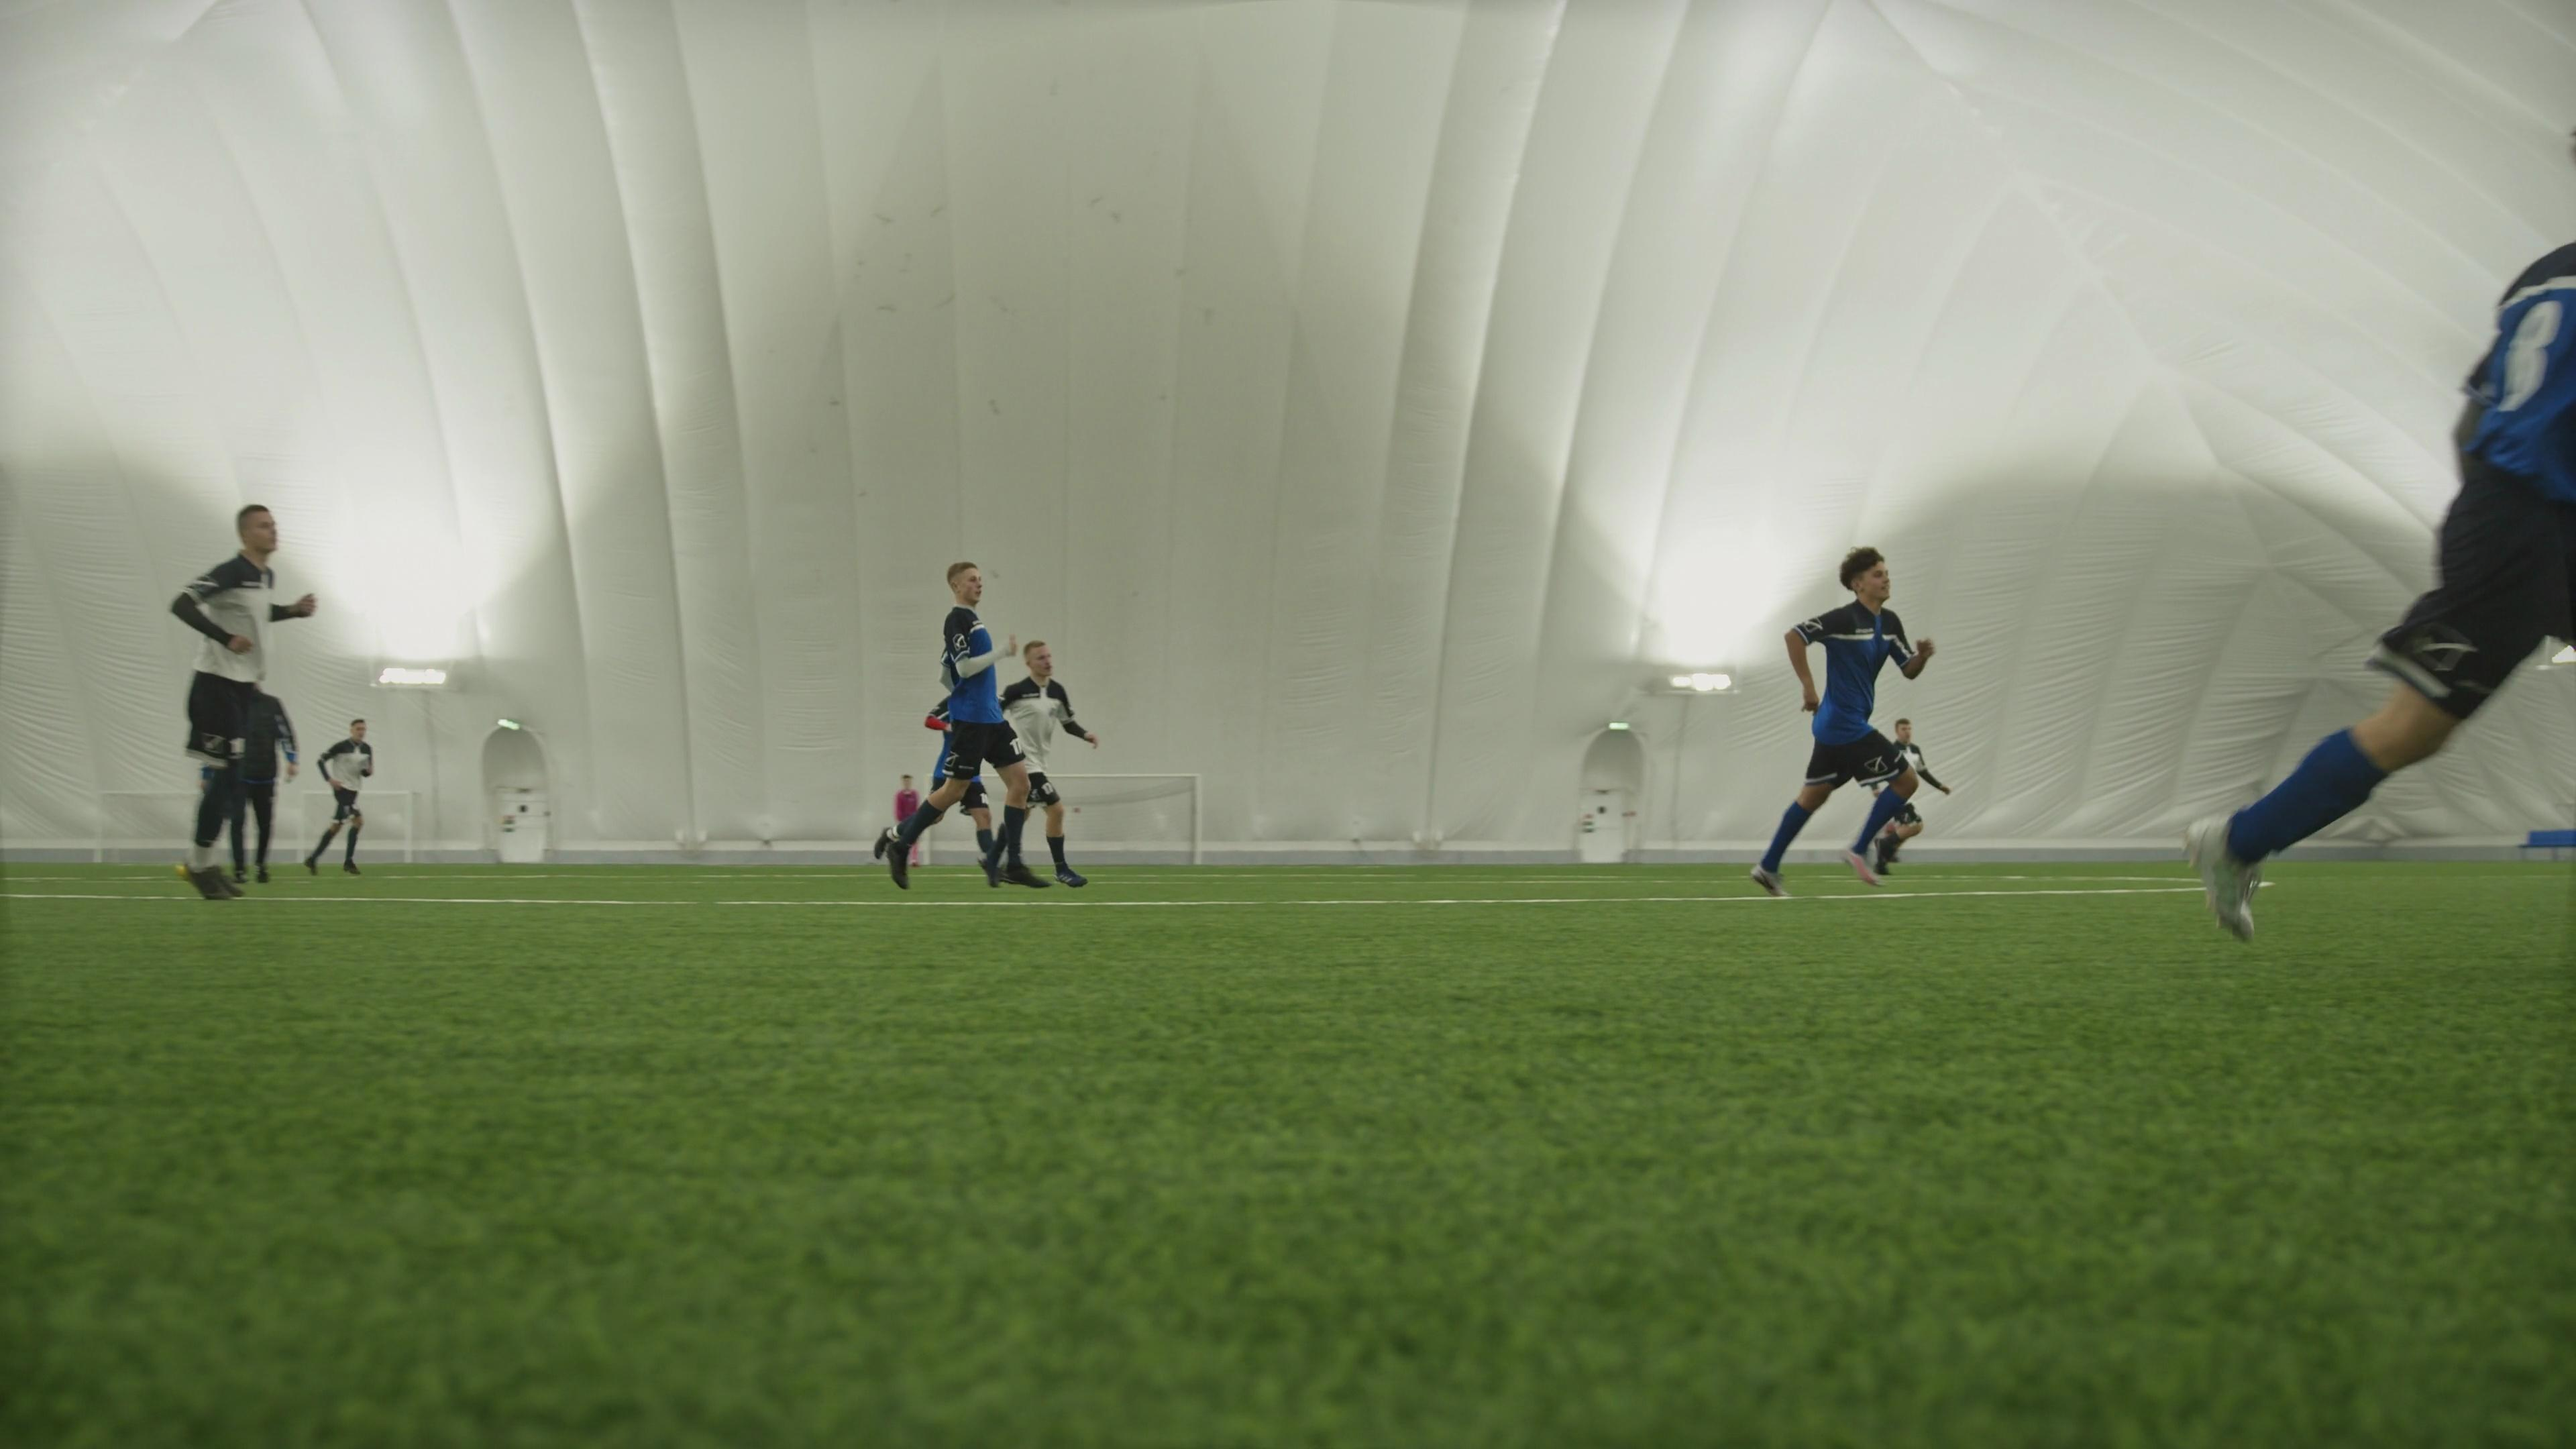other: (232, 694, 303, 901)
team1: (2190, 212, 2574, 947), (876, 568, 1088, 895), (1753, 548, 1939, 892)
team1gk: (892, 763, 929, 870)
team2: (172, 502, 313, 899), (1000, 637, 1099, 883), (1882, 715, 1951, 870), (308, 720, 375, 879)
